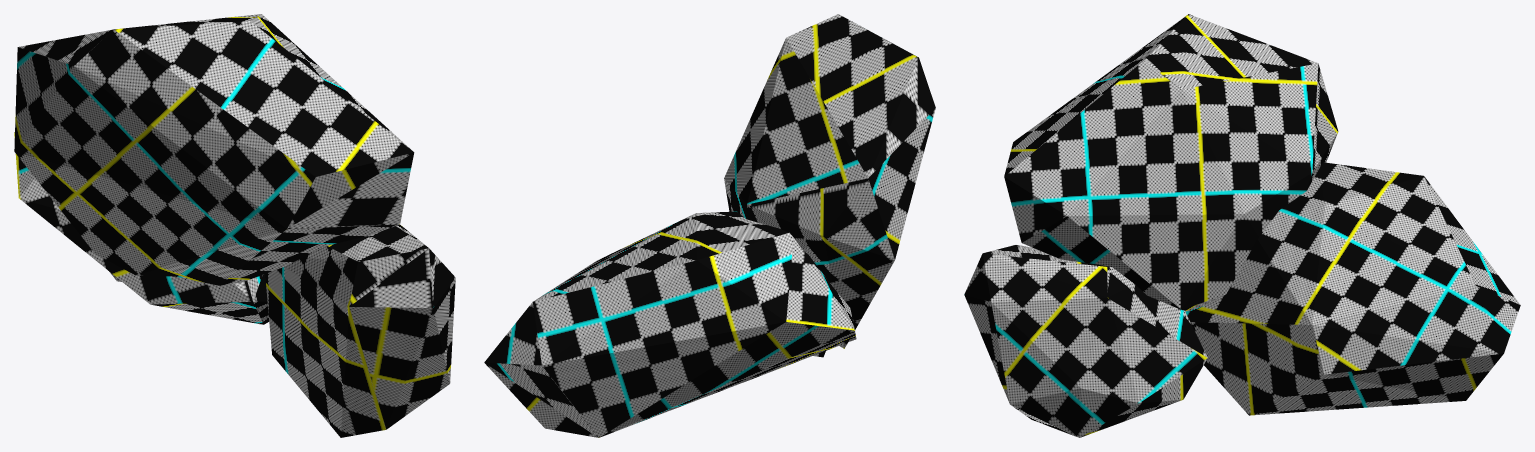
3 views of the same model, side by side, from view 1: azimuth 30°, elevation 25°; view 2: azimuth 150°, elevation 25°; view 3: azimuth 270°, elevation 25° (orthographic). The views are drawn at different scales.
Parts seen in each view (by area): view 1: block1; view 2: block1; view 3: block1.
Part boxes in pixels (x1,y1,x2,y2): block1: (14, 14, 455, 437); block1: (484, 14, 935, 437); block1: (964, 14, 1520, 437).
Bounding box in the file's own units: 5.73 × 6.93 × 10.
